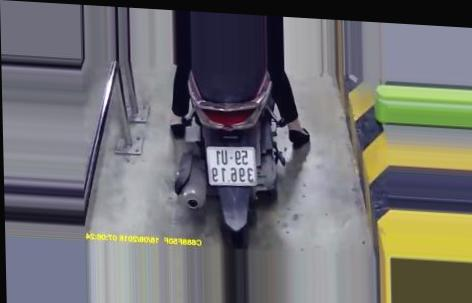License_Plate: (201, 140, 261, 191)
